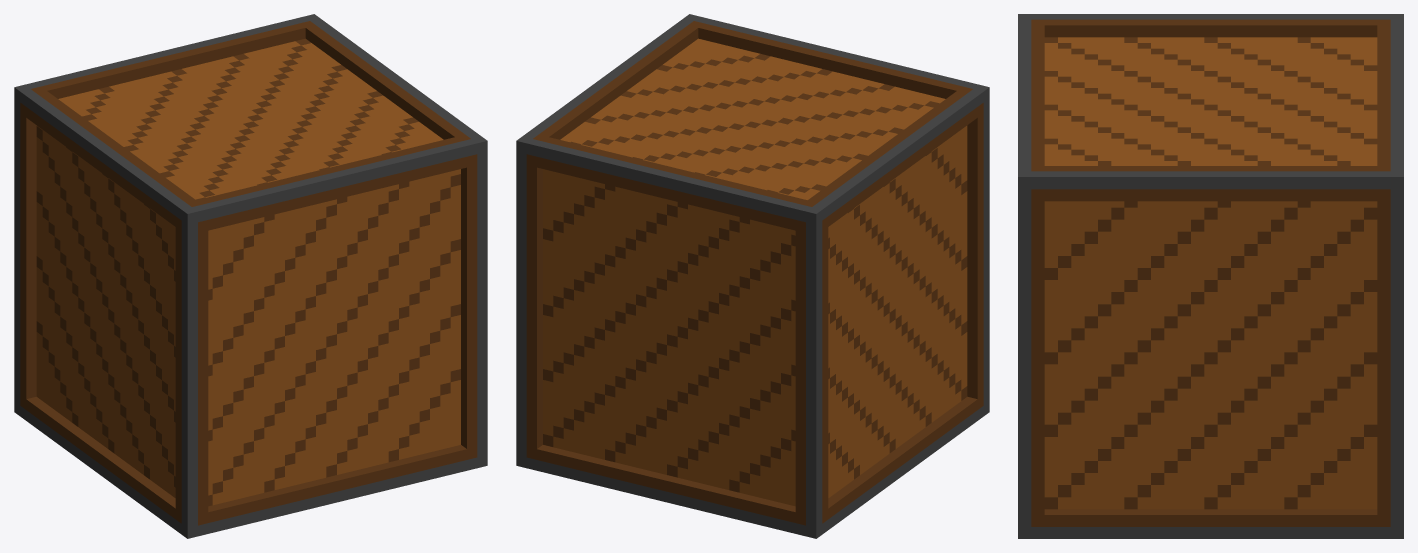
Rendered from woodcrate.obj.
3 renders of one model, left to right at view 1: azimuth 30°, elevation 25°; view 2: azimuth 150°, elevation 25°; view 3: azimuth 270°, elevation 25°, orthographic. The views are drawn at different scales.
Visible parts, largest first — view 1: woodcrate; view 2: woodcrate; view 3: woodcrate.
Part boxes in pixels (bbox=[...]): woodcrate: bbox=[14, 14, 487, 538]; woodcrate: bbox=[516, 14, 989, 538]; woodcrate: bbox=[1018, 14, 1403, 538].
Bounding box in the file's own units: 29 × 30 × 29.
1 material, 1 textured.
